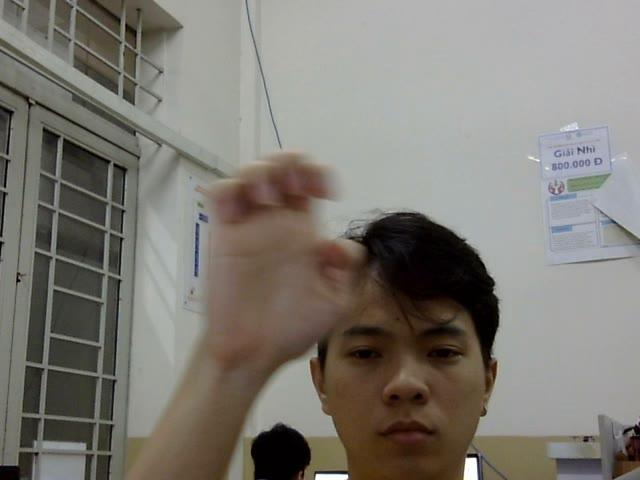E: (198, 146, 361, 362)
